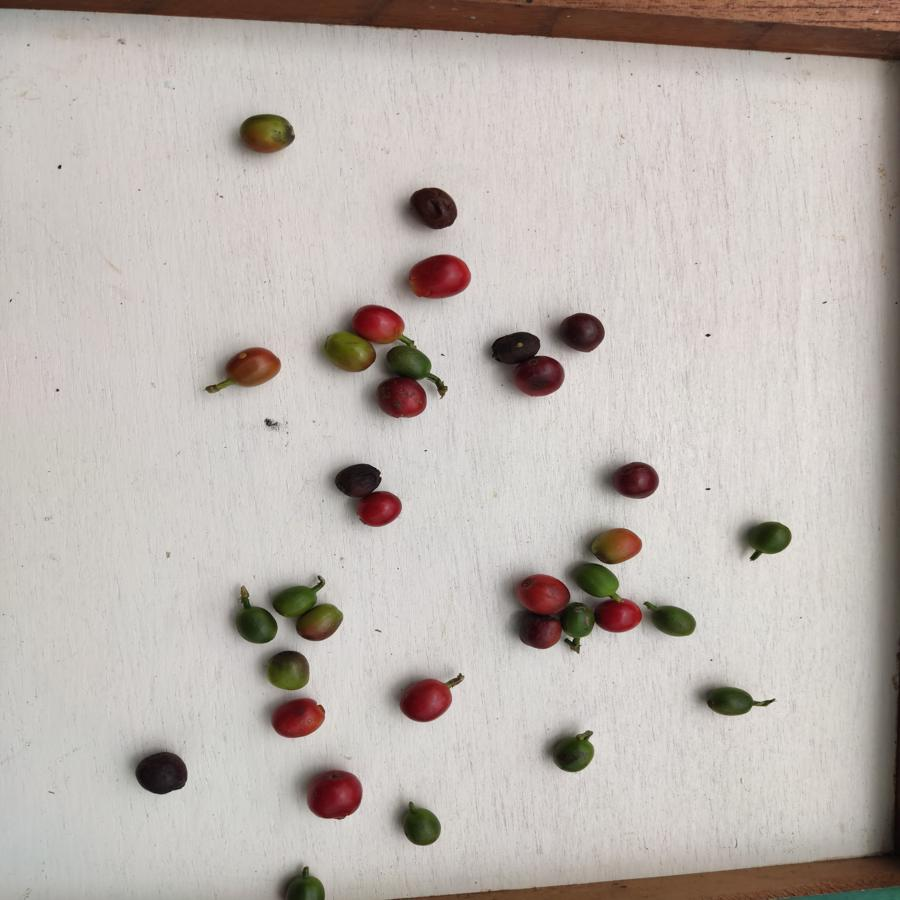Inmaduro: (572, 560, 627, 599), (400, 803, 444, 849), (703, 684, 758, 720), (552, 731, 598, 774), (385, 341, 434, 381), (650, 603, 698, 642), (235, 603, 278, 645), (268, 583, 317, 616), (750, 519, 794, 555), (280, 874, 332, 900), (565, 604, 595, 642)
Maduro: (406, 253, 476, 305), (304, 772, 365, 819), (347, 299, 412, 342), (274, 695, 330, 742), (399, 678, 453, 726), (519, 572, 571, 612), (595, 596, 645, 632), (358, 491, 404, 528)
Pinton: (220, 345, 285, 389), (236, 112, 297, 157), (318, 331, 381, 373), (588, 527, 644, 565), (296, 604, 347, 644), (266, 652, 311, 690)
Sobremaduro: (512, 356, 571, 398), (137, 751, 189, 798), (555, 311, 608, 356), (376, 378, 429, 423), (410, 187, 459, 228), (609, 462, 661, 499), (489, 330, 546, 363), (334, 461, 383, 495), (518, 612, 562, 649)
